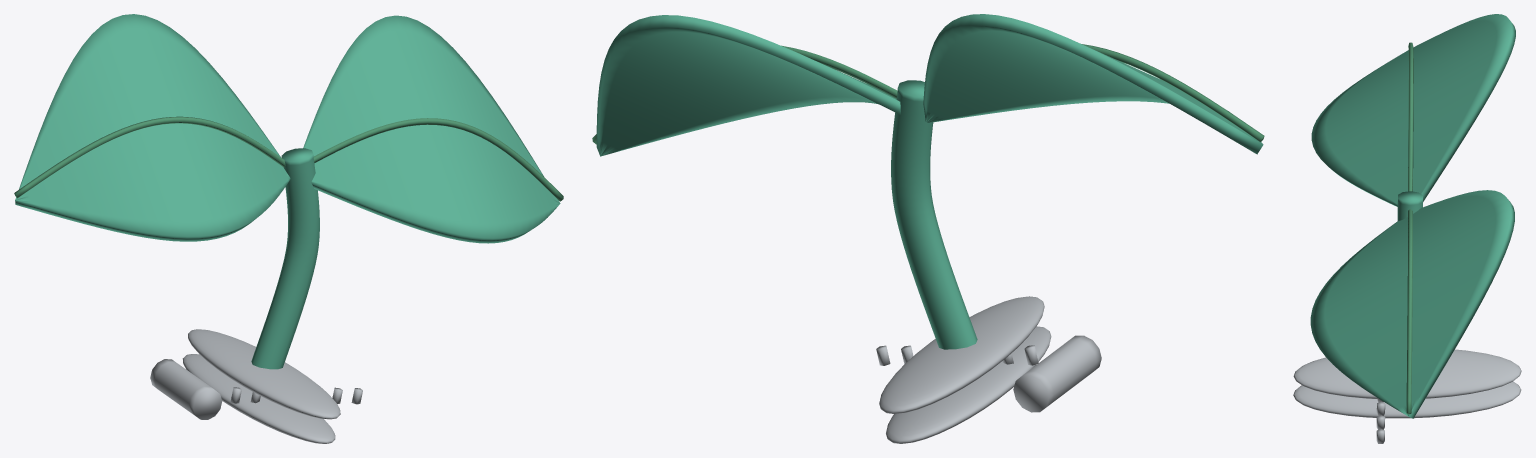
File: Masculine-afro-pashmina250-sprout.glb
The picture shows the model from 3 angles, left to right: view 1: azimuth 30°, elevation 25°; view 2: azimuth 150°, elevation 25°; view 3: azimuth 270°, elevation 25°; orthographic projection. The views are drawn at different scales.
Parts seen in each view (by area): view 1: 226 extra / Accessory / mint226, 226 extra / Sprout / clip silver235, 226 extra / Sprout / leaf vein235; view 2: 226 extra / Accessory / mint226, 226 extra / Sprout / clip silver235, 226 extra / Sprout / leaf vein235; view 3: 226 extra / Accessory / mint226, 226 extra / Sprout / clip silver235, 226 extra / Sprout / leaf vein235.
Boxes of the visible parts, x1=… form: 226 extra / Accessory / mint226: x1=15, y1=14, x2=560, y2=369; 226 extra / Sprout / clip silver235: x1=150, y1=329, x2=362, y2=443; 226 extra / Sprout / leaf vein235: x1=14, y1=116, x2=563, y2=201; 226 extra / Accessory / mint226: x1=596, y1=14, x2=1263, y2=349; 226 extra / Sprout / clip silver235: x1=876, y1=296, x2=1101, y2=443; 226 extra / Sprout / leaf vein235: x1=592, y1=44, x2=1264, y2=144; 226 extra / Accessory / mint226: x1=1310, y1=14, x2=1515, y2=418; 226 extra / Sprout / clip silver235: x1=1293, y1=349, x2=1521, y2=443; 226 extra / Sprout / leaf vein235: x1=1406, y1=42, x2=1413, y2=414.
Size of the model in its own units: 0.2643 by 0.1735 by 0.104.
